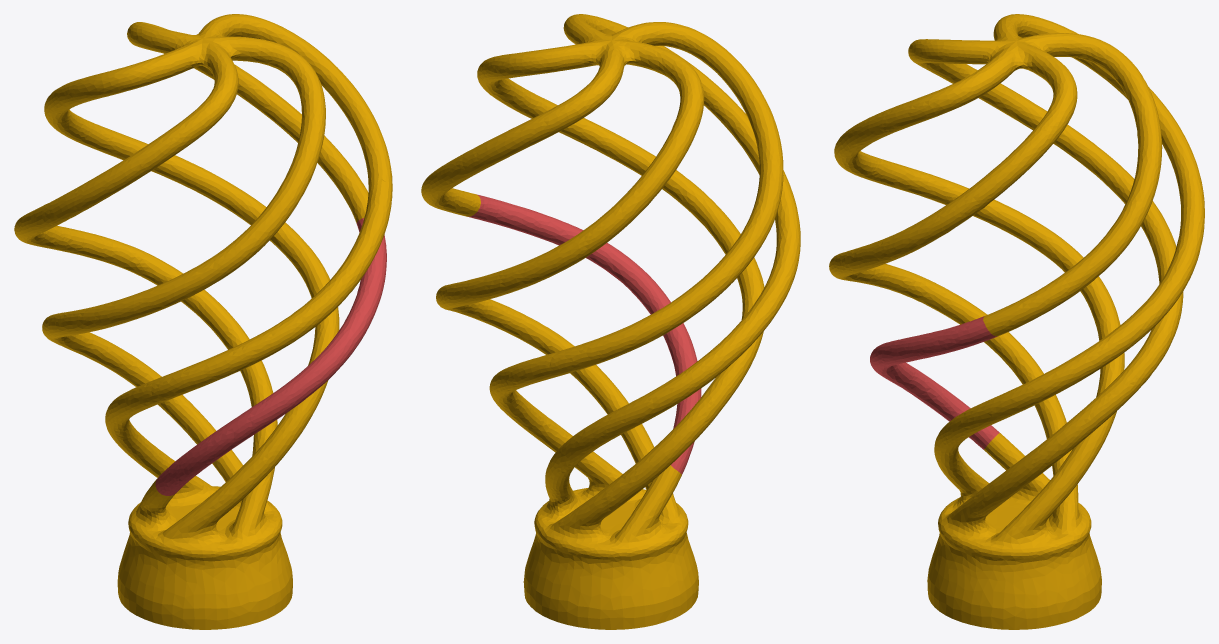
The model's file is fractured_63_2pcs.glb.
3 views of the same model, side by side, from view 1: azimuth 30°, elevation 25°; view 2: azimuth 150°, elevation 25°; view 3: azimuth 270°, elevation 25° (orthographic).
Visible parts, largest first — view 1: piece_0.obj, piece_1.obj; view 2: piece_0.obj, piece_1.obj; view 3: piece_0.obj, piece_1.obj.
Part boxes in pixels (<box>): piece_0.obj: <box>14,14,392,629</box>; piece_1.obj: <box>155,218,386,495</box>; piece_0.obj: <box>421,14,800,629</box>; piece_1.obj: <box>467,194,701,474</box>; piece_0.obj: <box>829,14,1204,629</box>; piece_1.obj: <box>870,316,999,449</box>.
Size of the model in its own units: 0.6206 by 1 by 0.6175.
